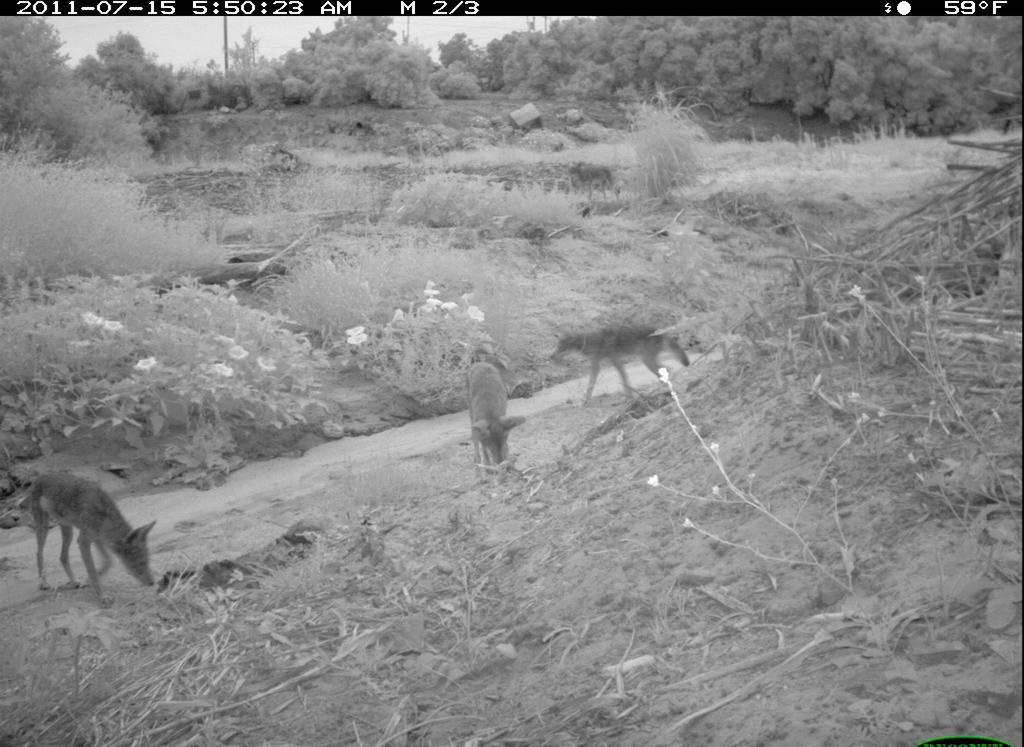coyote: (18, 457, 159, 615), (548, 327, 707, 409), (454, 359, 521, 475)
